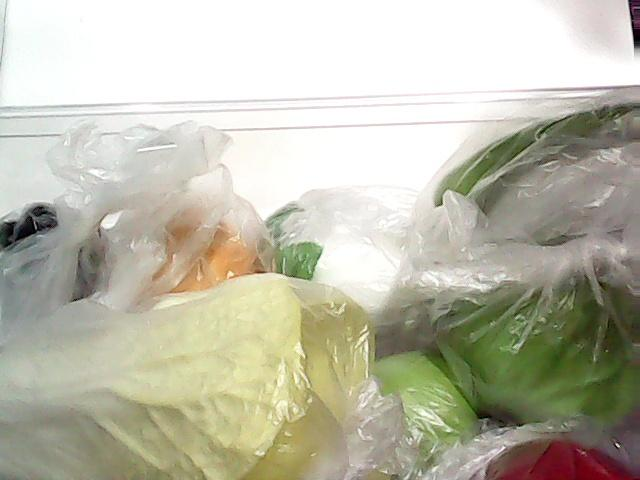apple: (365, 348, 479, 460), (462, 436, 638, 478)
cabbage: (408, 248, 640, 459)
grape: (1, 180, 108, 282)
lemon: (115, 194, 269, 306)
napa cabbage: (3, 283, 369, 480)
pepper: (419, 74, 640, 233)
radish: (262, 189, 422, 335)
